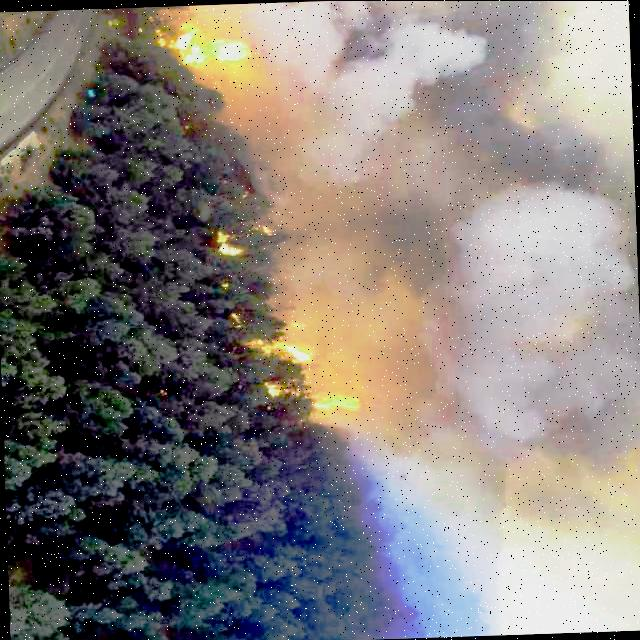api: (157, 18, 255, 74), (256, 384, 313, 410), (253, 343, 323, 362), (216, 226, 245, 270), (313, 391, 359, 414)
asap: (386, 1, 636, 631), (242, 2, 386, 428)
